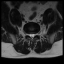CCS_normal: (31, 32, 33, 40)
LFS_normal: (35, 31, 37, 36)
LLS_normal: (33, 32, 35, 38)
RFS_normal: (27, 31, 29, 36)
RLS_normal: (29, 32, 31, 38)
